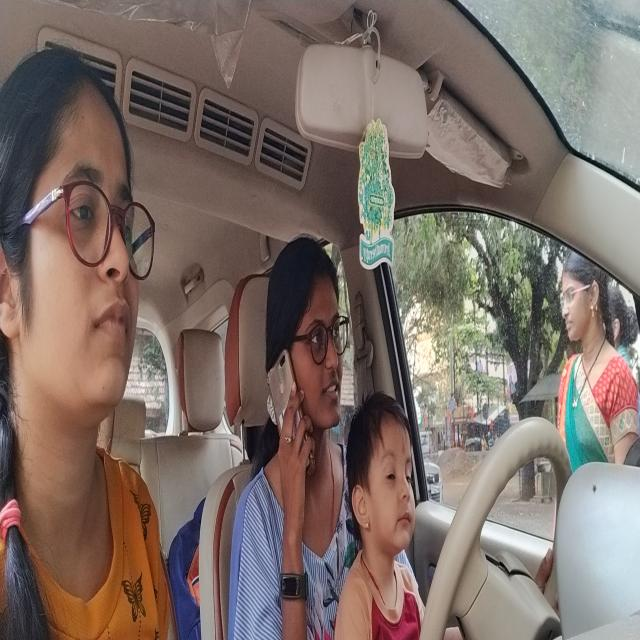child: (347, 393, 420, 572)
mobile: (264, 336, 311, 469)
person: (0, 50, 158, 443), (264, 238, 352, 482)
